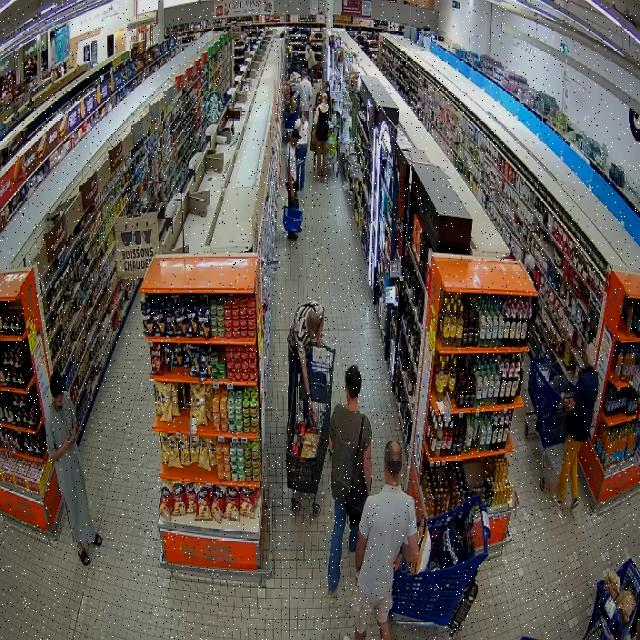bags: (345, 416, 368, 526)
hands: (308, 397, 314, 420), (394, 554, 402, 571), (70, 425, 78, 441), (316, 334, 324, 348), (290, 187, 294, 200), (561, 391, 566, 401)
person: (354, 441, 419, 639), (46, 373, 101, 565), (329, 366, 371, 593), (552, 344, 598, 510), (288, 300, 324, 417), (295, 113, 309, 190), (286, 129, 299, 207)
